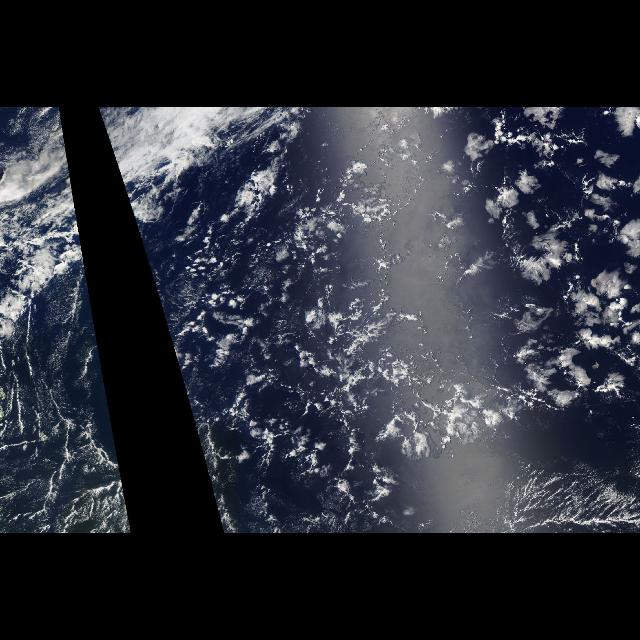Gravel: (172, 162, 390, 512), (394, 372, 596, 463)
Sugar: (487, 465, 639, 533)
